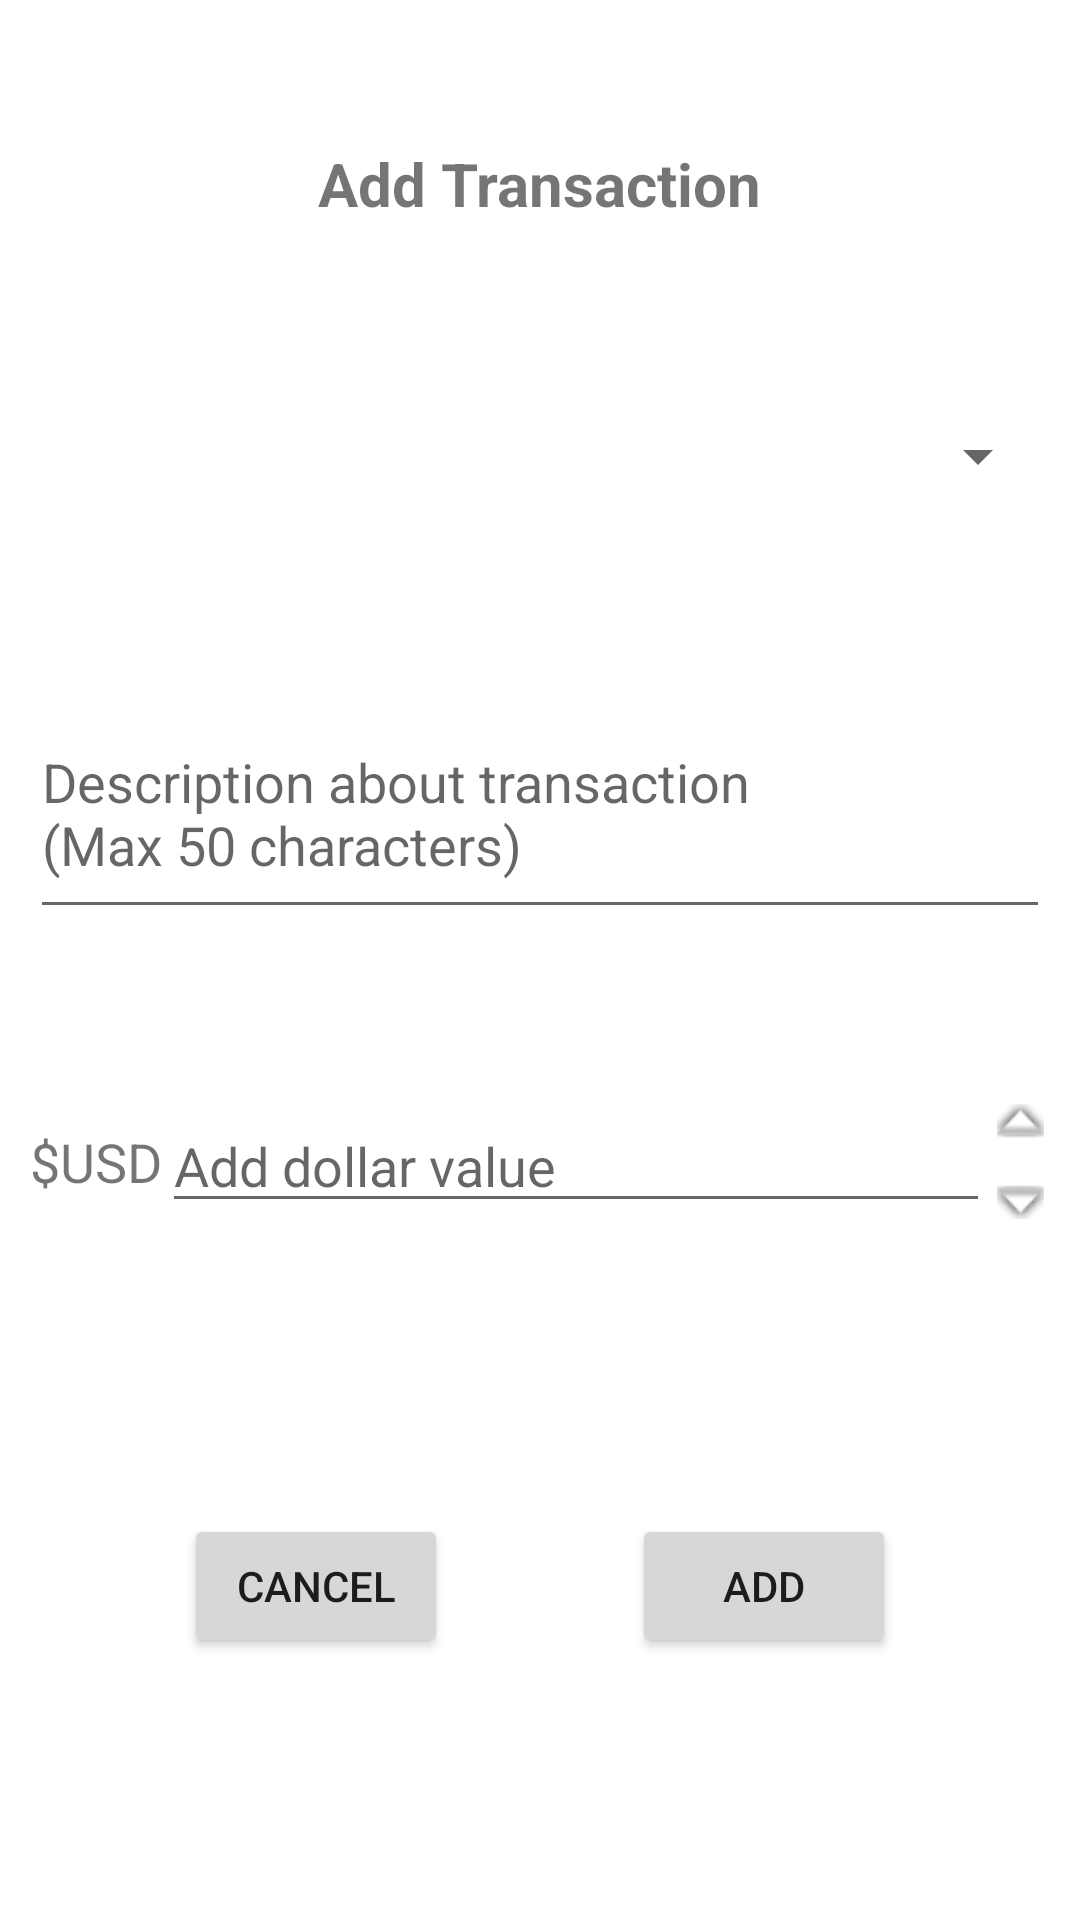

Icon click points for this 1080×1920 phone screenshot, format (x=x, y=y):
Decrement Button: (x=1020, y=1202)
Increment Button: (x=1020, y=1121)
